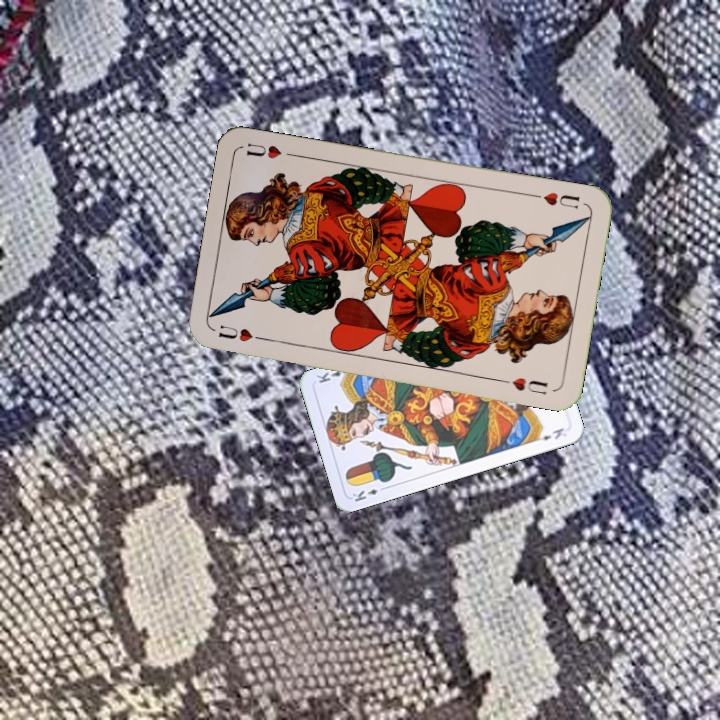EK: (348, 482, 389, 504)
HU: (214, 321, 270, 345), (528, 188, 582, 211)
